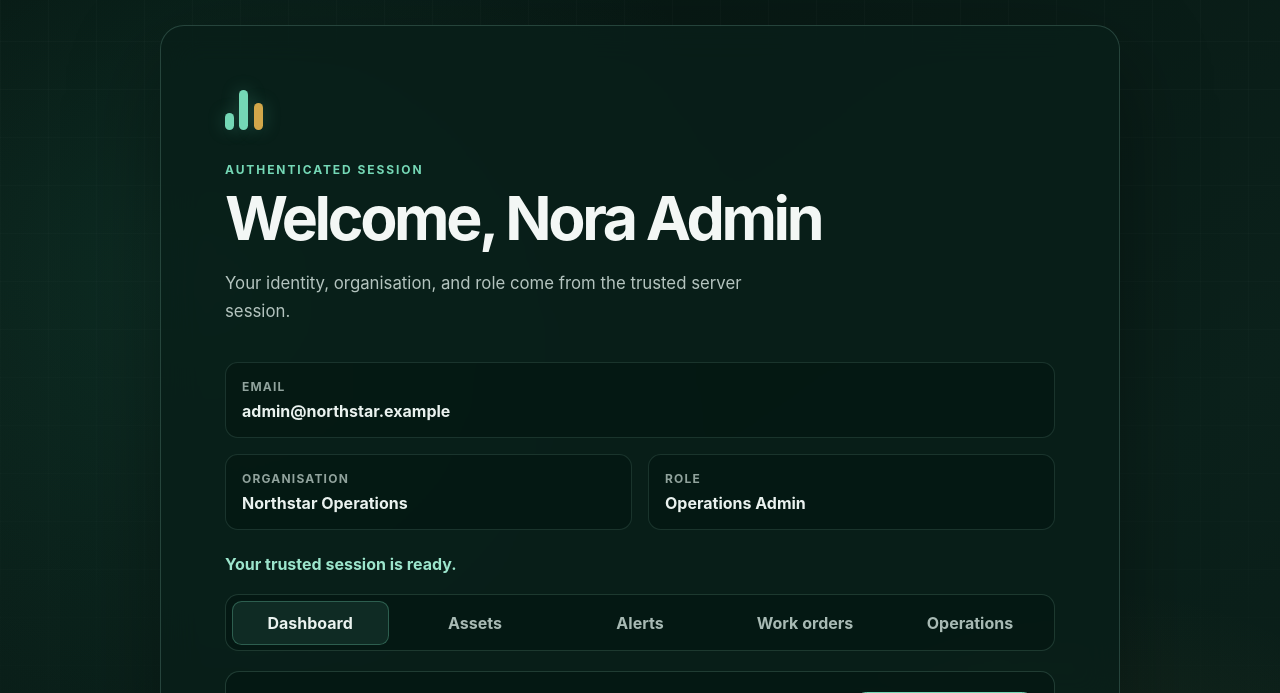
seeded session application › shows asset loading without hiding trusted identity or sign-out
Expected: the heading "Welcome, Nora Admin" is shown, top-left (225, 181), bottom-right (821, 255)
Click the button "Assets" at (475, 622), box top-left (397, 600), bottom-right (554, 644)
(page scrolled)
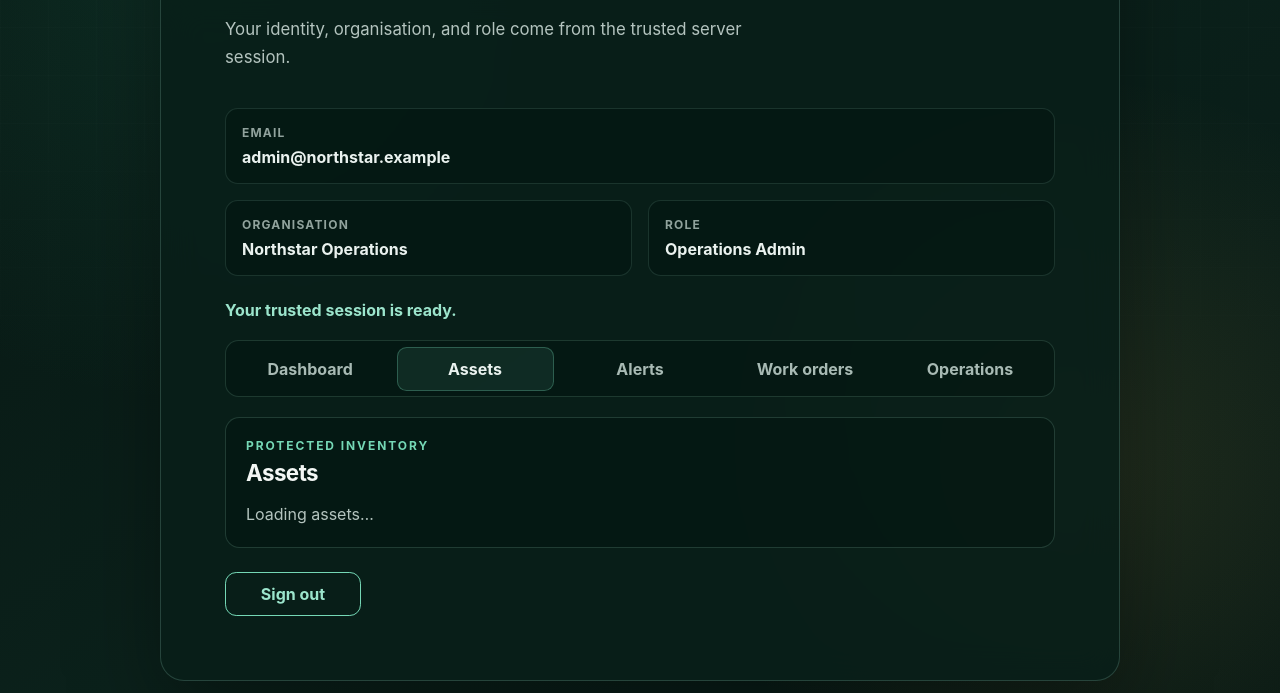
Expected: the text "Northstar Operations" is shown, top-left (242, 239), bottom-right (408, 259)
Expected: the message shows "Loading assets", top-left (246, 504), bottom-right (374, 524)
